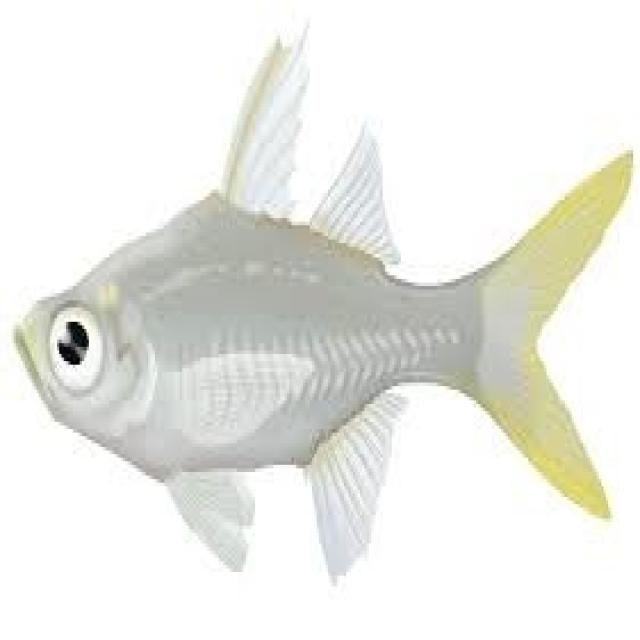Glass-Perchlet: (9, 7, 629, 587)
